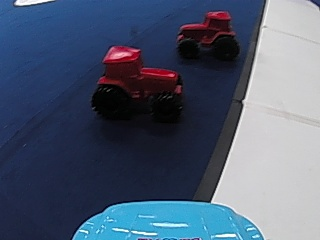Tracktor: (90, 44, 189, 123), (176, 9, 239, 61)
